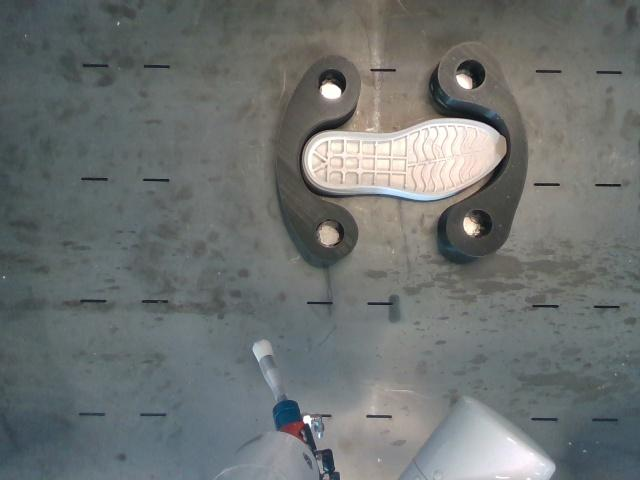shoes: (305, 119, 506, 195)
